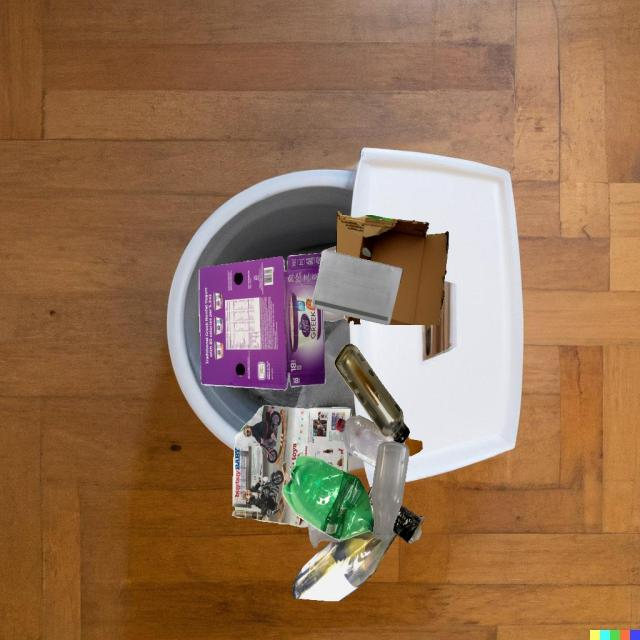biowaste: (404, 436, 423, 456)
cardboard: (199, 253, 325, 390), (336, 211, 449, 306)
glass: (334, 344, 410, 444), (292, 531, 398, 601), (372, 442, 409, 540), (308, 523, 343, 548)
paper: (232, 405, 352, 527), (312, 250, 403, 325)
plastic: (282, 456, 374, 540), (336, 415, 394, 468), (322, 252, 344, 318), (393, 505, 424, 544), (323, 310, 344, 322)
